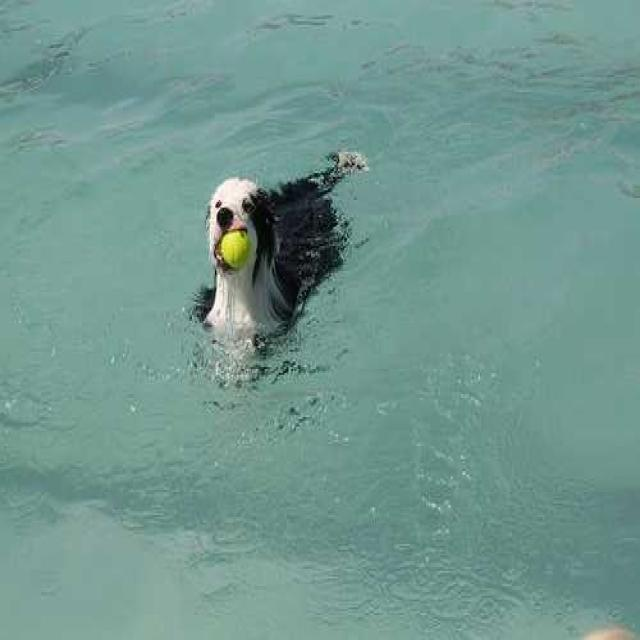Tennis_Ball: (225, 226, 251, 272)
